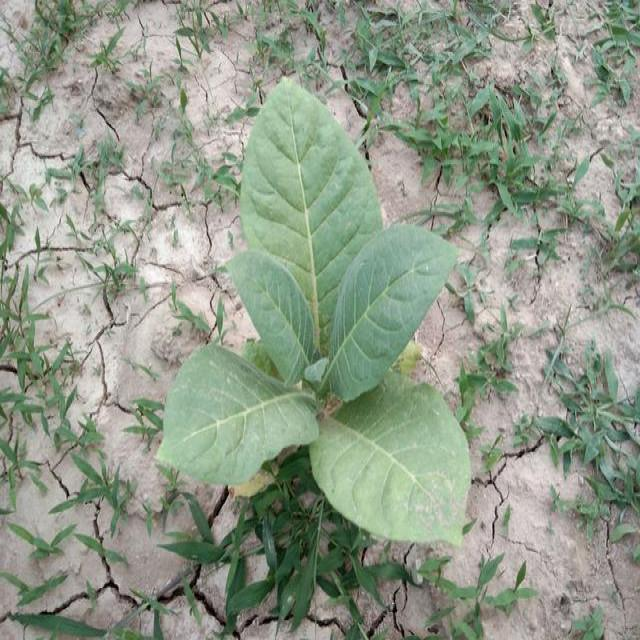crop: (155, 79, 476, 551)
